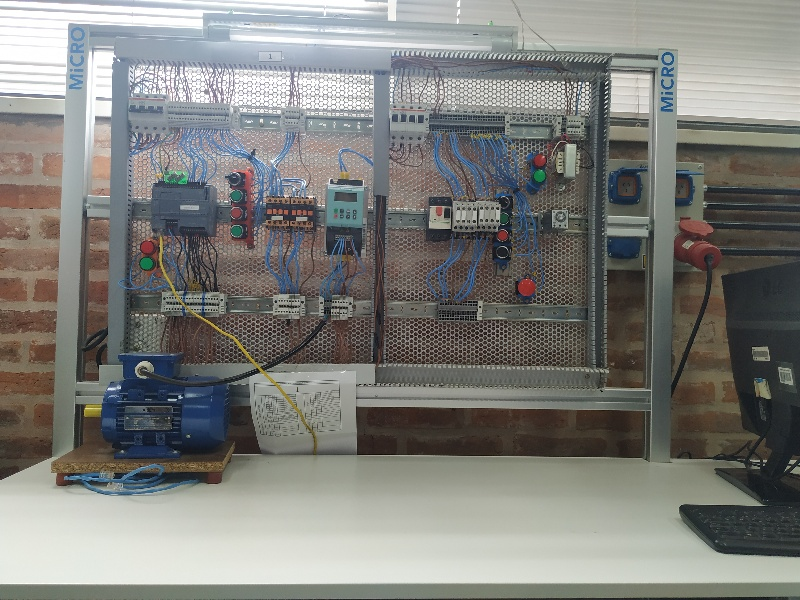Tablero 1: (117, 49, 612, 390)
